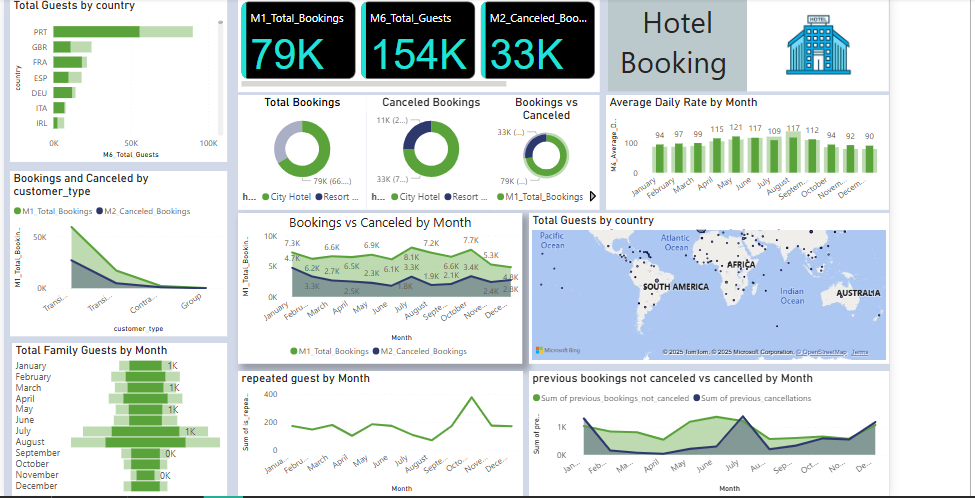

This screenshot's page, from the dashboard's own definition file:
{"tool":"powerbi","page":{"name":"Page 1","canvas":[1280,720],"ordinal":0},"visuals":[{"type":"clusteredBarChart","title":"Total Guests by country","fields":{"Category":["hotel_bookings.country"],"Y":["hotel_bookings.M6_Total_Guests"]},"box":[8.8,0,313.7,237.1],"z":0},{"type":"areaChart","title":"Bookings vs Canceled by Month","fields":{"Category":["hotel_bookings.reservation_status_date.Variation.Date Hierarchy.Month"],"Y":["hotel_bookings.M1_Total_Bookings","hotel_bookings.M2_Canceled_Bookings"]},"box":[338.8,310.8,411,218],"z":1000},{"type":"lineChart","title":"repeated guest by Month","fields":{"Category":["hotel_bookings.reservation_status_date.Variation.Date Hierarchy.Month"],"Y":["Sum(hotel_bookings.is_repeated_guest)"]},"box":[338.4,538.9,411.9,180.7],"z":2000},{"type":"funnel","title":"Total Family Guests by Month","fields":{"Category":["hotel_bookings.reservation_status_date.Variation.Date Hierarchy.Month"],"Y":["hotel_bookings.M13_Total_Family_Guests"]},"box":[11.8,499.3,310.8,220.9],"z":3000},{"type":"donutChart","title":"Total Bookings","fields":{"Category":["hotel_bookings.hotel"],"Y":["hotel_bookings.M1_Total_Bookings"]},"box":[338.8,139.9,185.8,166.4],"z":4000,"group":"g1"},{"type":"areaChart","title":"Bookings and Canceled by customer_type","fields":{"Category":["hotel_bookings.customer_type"],"Y":["hotel_bookings.M1_Total_Bookings","hotel_bookings.M2_Canceled_Bookings"]},"box":[8.8,250.4,313.7,238.6],"z":4000},{"type":"cardVisual","fields":{"Data":["hotel_bookings.M1_Total_Bookings","hotel_bookings.M6_Total_Guests","hotel_bookings.M2_Canceled_Bookings","hotel_bookings.M3_Cancellation_Rate"]},"box":[338.8,0,522.9,135.5],"z":5000},{"type":"donutChart","title":"Bookings vs Canceled","fields":{"Y":["hotel_bookings.M1_Total_Bookings","hotel_bookings.M2_Canceled_Bookings"]},"box":[707.3,139.9,154.3,166.4],"z":5000,"group":"g1"},{"type":"columnChart","title":"Average Daily Rate by Month","fields":{"Category":["hotel_bookings.reservation_status_date.Variation.Date Hierarchy.Month"],"Y":["hotel_bookings.M4_Average_Daily_Rate"]},"box":[870.5,139.8,409.5,166.4],"z":6000},{"type":"textbox","box":[873.9,0,201.6,134.8],"z":7000,"group":"g2"},{"type":"image","box":[1075.5,0,204.5,134.8],"z":8000,"group":"g2"},{"type":"donutChart","title":"Canceled Bookings","fields":{"Y":["hotel_bookings.M2_Canceled_Bookings"],"Category":["hotel_bookings.hotel"]},"box":[524.6,139.9,185.8,166.4],"z":9000,"group":"g1"},{"type":"map","title":"Total Guests by country","fields":{"Category":["hotel_bookings.country"],"Size":["hotel_bookings.M6_Total_Guests"]},"box":[759,311.3,521,218],"z":9000},{"type":"group","id":"g1","title":"Group 1","box":[338.8,139.9,522.9,166.4],"z":10000},{"type":"areaChart","title":"previous bookings not canceled vs  cancelled by Month","fields":{"Category":["hotel_bookings.reservation_status_date.Variation.Date Hierarchy.Month"],"Y":["Sum(hotel_bookings.previous_bookings_not_canceled)","Sum(hotel_bookings.previous_cancellations)"]},"box":[759,539.3,521,181.4],"z":10001},{"type":"group","id":"g2","title":"Group 2","box":[873.9,0,406.1,134.8],"z":10002}]}

Visuals, with their boxes on the page's 1280x720 design canvas (x1, y1, x2, y2). These are canvas units, not pixel positions in the 975x498 screenshot, which may show the page scaled, cropped or inside an application window:
"Total Guests by country" clusteredBarChart: crop(9, 0, 322, 237)
"Bookings vs Canceled by Month" areaChart: crop(339, 311, 750, 529)
"repeated guest by Month" lineChart: crop(338, 539, 750, 720)
"Total Family Guests by Month" funnel: crop(12, 499, 323, 720)
"Total Bookings" donutChart: crop(339, 140, 525, 306)
"Bookings and Canceled by customer_type" areaChart: crop(9, 250, 322, 489)
cardVisual - hotel_bookings.M1_Total_Bookings x hotel_bookings.M6_Total_Guests: crop(339, 0, 862, 136)
"Bookings vs Canceled" donutChart: crop(707, 140, 862, 306)
"Average Daily Rate by Month" columnChart: crop(870, 140, 1280, 306)
textbox: crop(874, 0, 1076, 135)
image: crop(1076, 0, 1280, 135)
"Canceled Bookings" donutChart: crop(525, 140, 710, 306)
"Total Guests by country" map: crop(759, 311, 1280, 529)
"Group 1" group: crop(339, 140, 862, 306)
"previous bookings not canceled vs  cancelled by Month" areaChart: crop(759, 539, 1280, 721)
"Group 2" group: crop(874, 0, 1280, 135)
